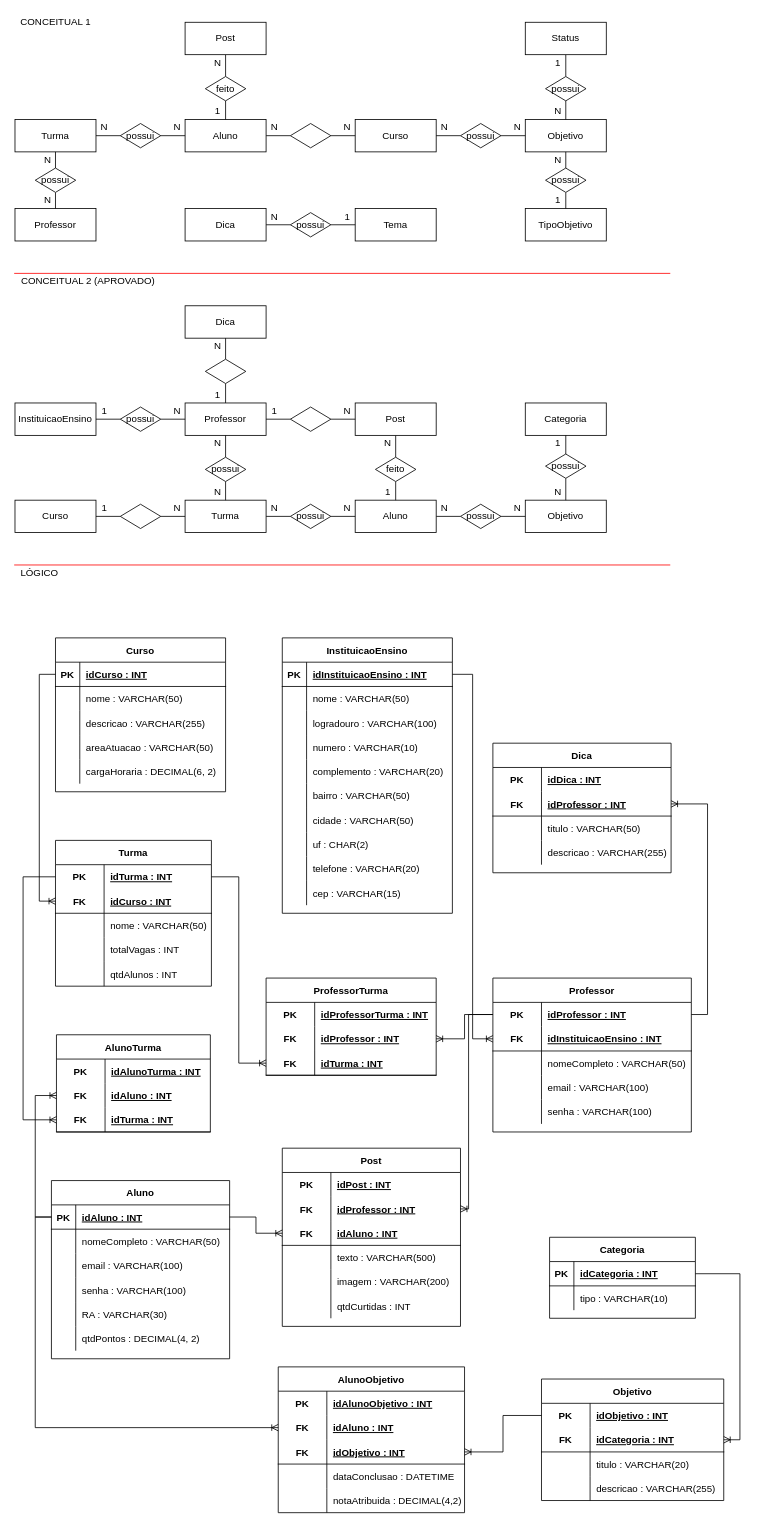
Some shapes in this 761 by 1527 pixel diagram are drawn without their labels. The centre of each missing label's shape, as x and y in pixels:
"cursa" belongs at (310,135).
"cursado" belongs at (140,516).
"faz" belongs at (310,418).
"posta" belongs at (225,371).
